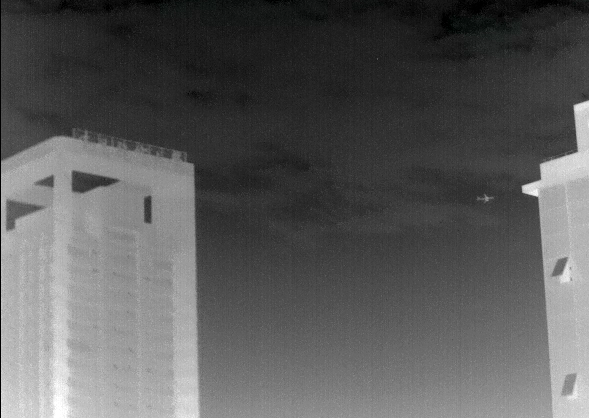dim target: (476, 193, 494, 204)
